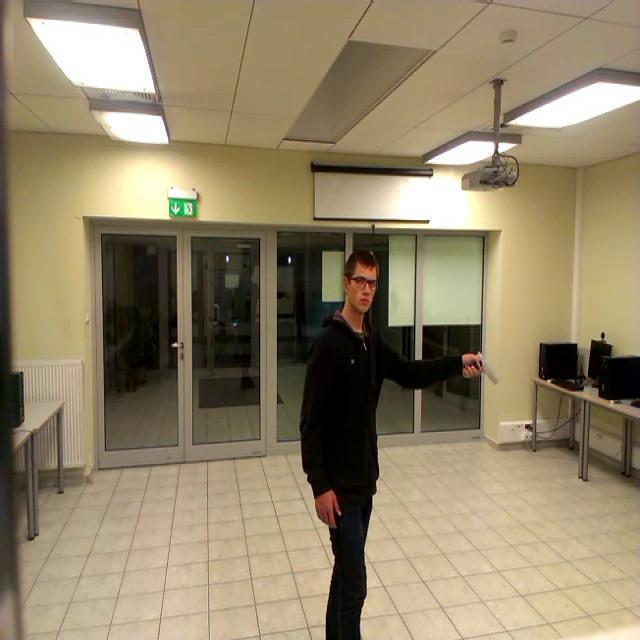Gun: (466, 350, 500, 383)
